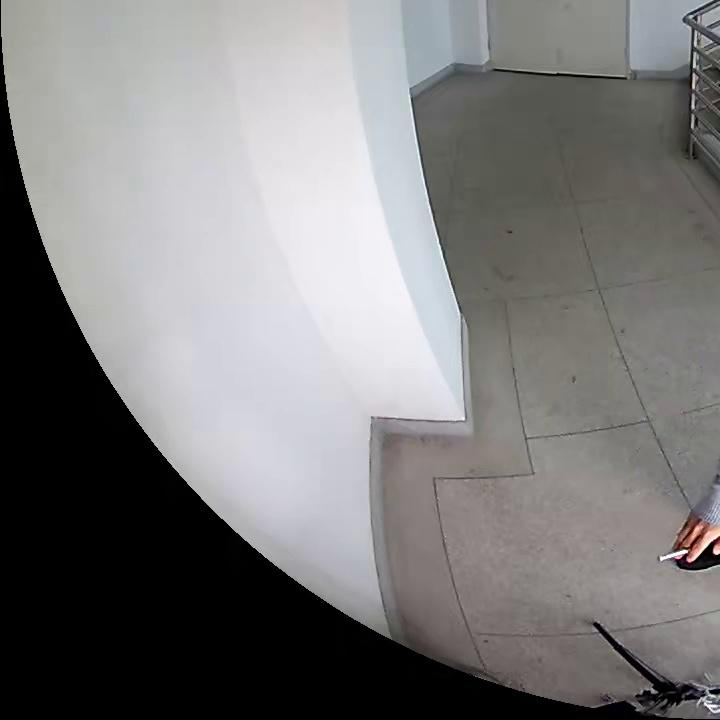handsmoke: (657, 511, 720, 565)
